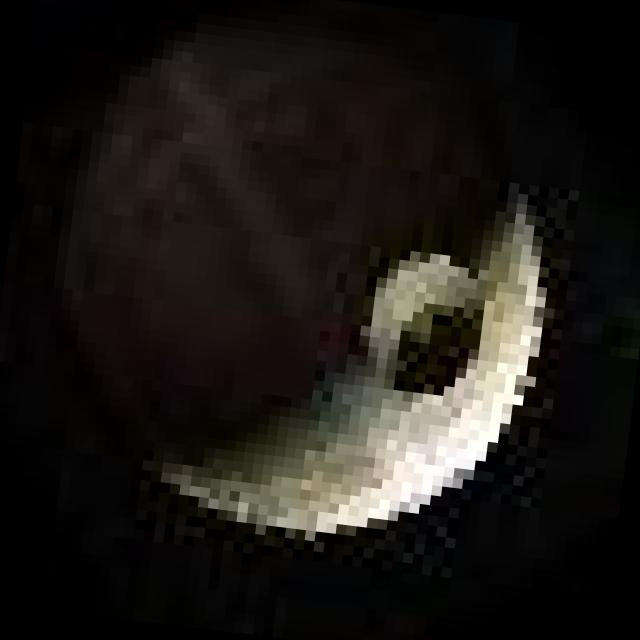Death Star: (39, 11, 570, 562)
